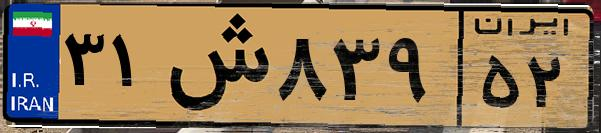1: (110, 28, 158, 98)
2: (525, 38, 570, 115)
3: (330, 28, 385, 110), (57, 26, 110, 100)
5: (475, 38, 525, 113)
8: (270, 28, 330, 110)
9: (385, 28, 445, 110)
ش: (158, 12, 270, 120)
